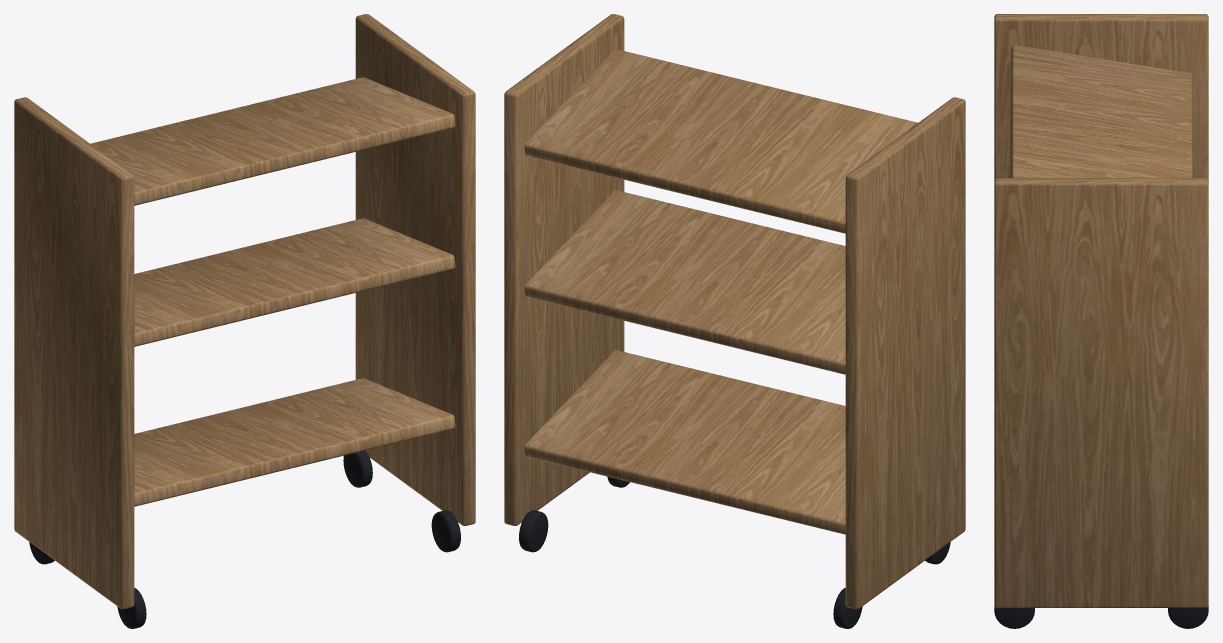
Rendered from library-trolley-0766f94a0492.glb.
3 views of the same model, side by side, from view 1: azimuth 30°, elevation 25°; view 2: azimuth 150°, elevation 25°; view 3: azimuth 270°, elevation 25° (orthographic).
Visible parts, largest first — view 1: Mesh_Campus_Oak, Mesh_Gym_Rubber; view 2: Mesh_Campus_Oak, Mesh_Gym_Rubber; view 3: Mesh_Campus_Oak, Mesh_Gym_Rubber.
Part boxes in pixels (x1,y1,x2,y2): Mesh_Campus_Oak: [14, 14, 475, 609]; Mesh_Gym_Rubber: [29, 450, 460, 628]; Mesh_Campus_Oak: [504, 14, 965, 609]; Mesh_Gym_Rubber: [519, 476, 950, 628]; Mesh_Campus_Oak: [994, 14, 1208, 607]; Mesh_Gym_Rubber: [994, 606, 1208, 628].
Size of the model in its own units: 0.79 by 0.98 by 0.42.
Materials: 2 (1 with a texture image).
